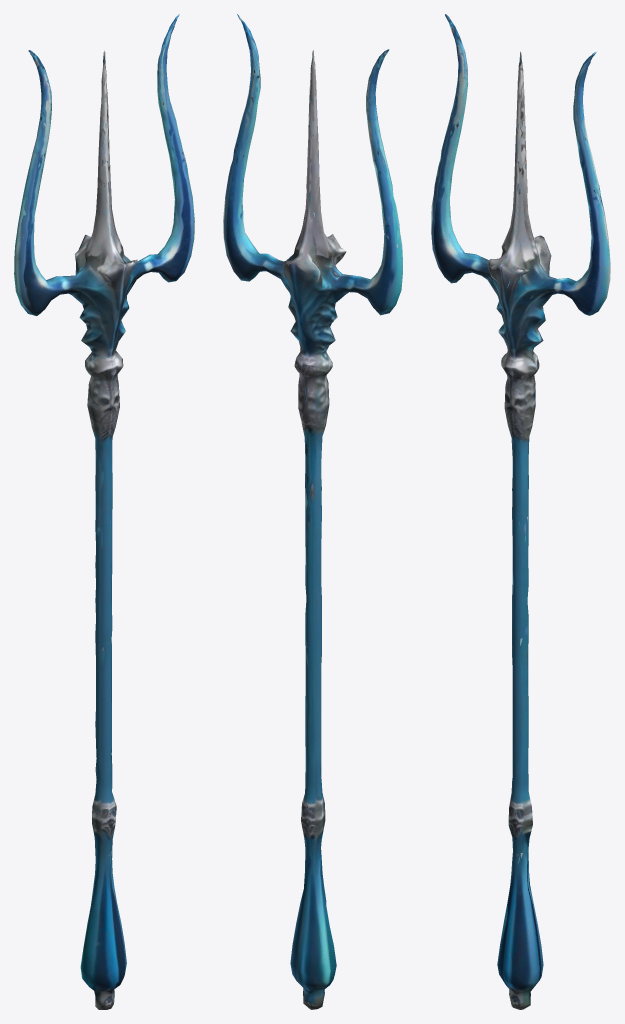
The model's file is 1605_spear.glb.
The picture shows the model from 3 angles, left to right: view 1: azimuth 30°, elevation 25°; view 2: azimuth 150°, elevation 25°; view 3: azimuth 330°, elevation 25°; orthographic projection.
Visible parts, largest first — view 1: Model; view 2: Model; view 3: Model.
Part boxes in pixels (x1=…): Model: x1=14, y1=14, x2=194, y2=1009; Model: x1=223, y1=14, x2=402, y2=1009; Model: x1=431, y1=14, x2=610, y2=1009.
Size of the model in its own units: 0.193 by 1 by 0.0765.
1 material, 1 textured.
